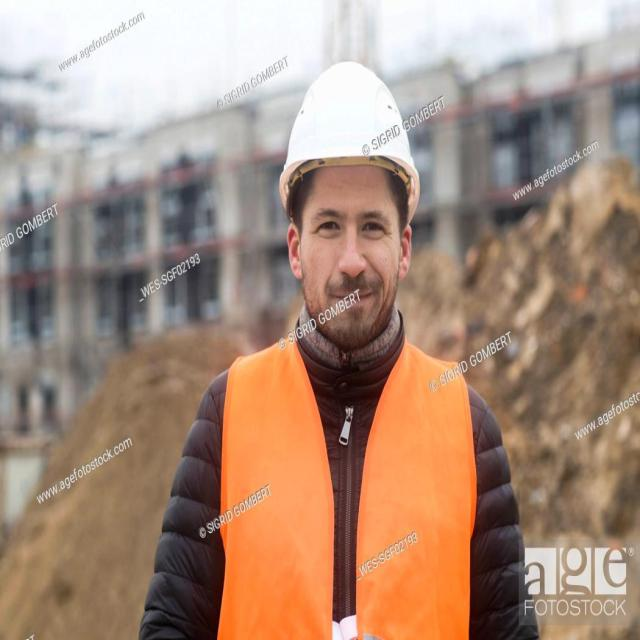helmet: (274, 56, 423, 212)
no-goggles: (298, 201, 408, 263)
vest: (211, 326, 479, 640)
